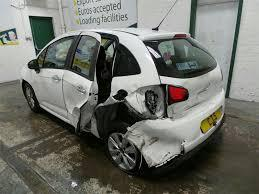Taillight-Damage: (133, 87, 167, 119)
boot-dent: (174, 66, 224, 111)
doorouter-dent: (62, 64, 109, 129)
rear-bumper-dent: (125, 121, 197, 163)
